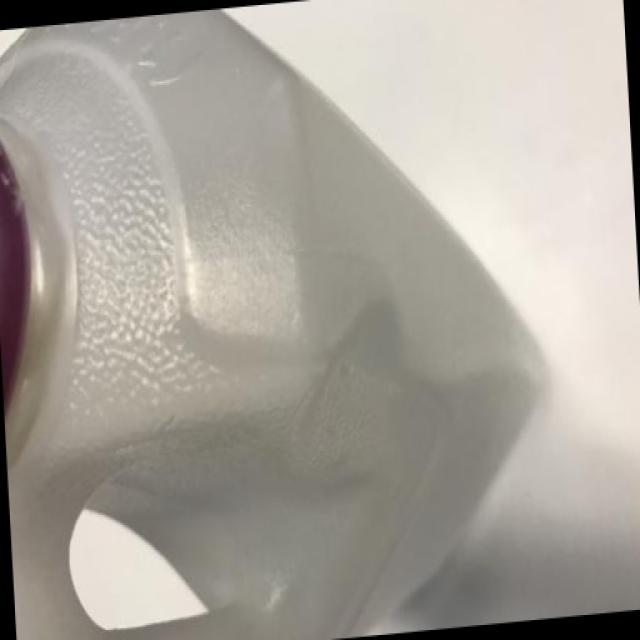plastico: (0, 13, 570, 640)
